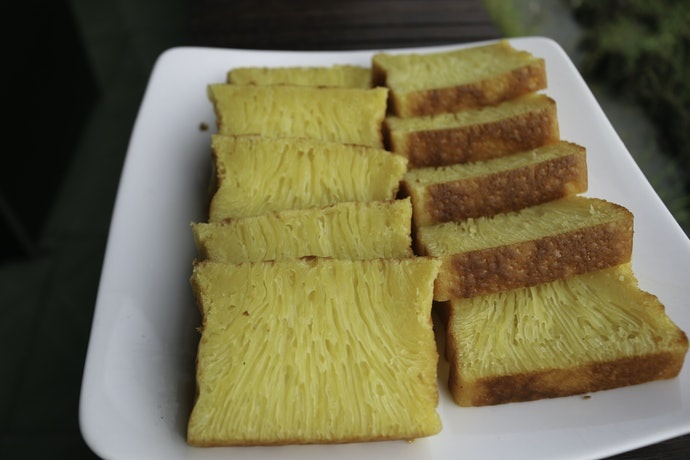bika_ambon: (166, 247, 445, 446), (431, 253, 687, 405), (203, 75, 408, 257)
